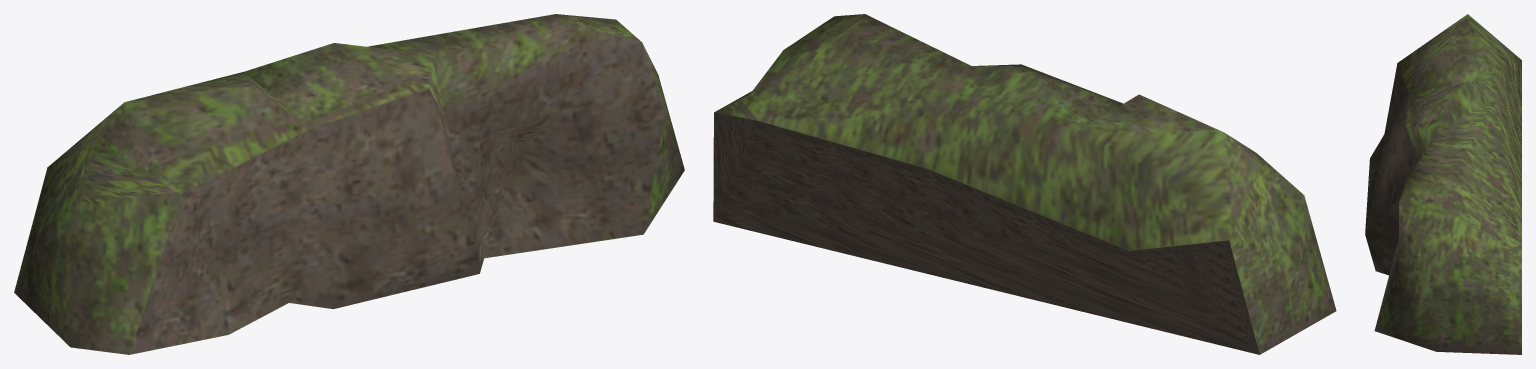
Rendered from thm_nboo_imprv_wall_rocks_s01_l3.fbx.
3 views of the same model, side by side, from view 1: azimuth 30°, elevation 25°; view 2: azimuth 150°, elevation 25°; view 3: azimuth 270°, elevation 25° (orthographic). The views are drawn at different scales.
Visible parts, largest first — view 1: mesh_node; view 2: mesh_node; view 3: mesh_node.
Boxes of the visible parts, bbox=[...] form: mesh_node: bbox=[14, 14, 684, 354]; mesh_node: bbox=[713, 14, 1336, 354]; mesh_node: bbox=[1365, 14, 1521, 354].
Bounding box in the file's own units: 27.25 × 8.88 × 8.05.
